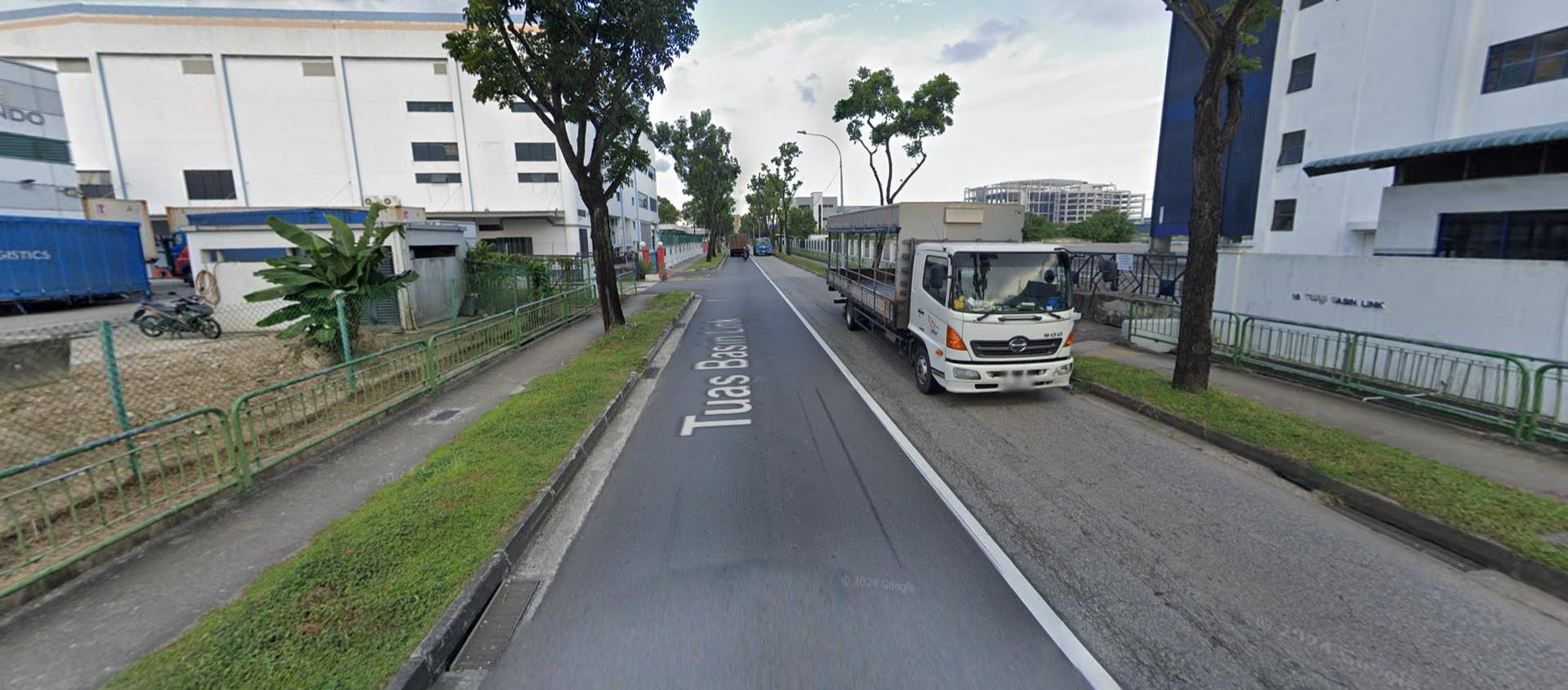defect: (454, 579, 545, 672)
